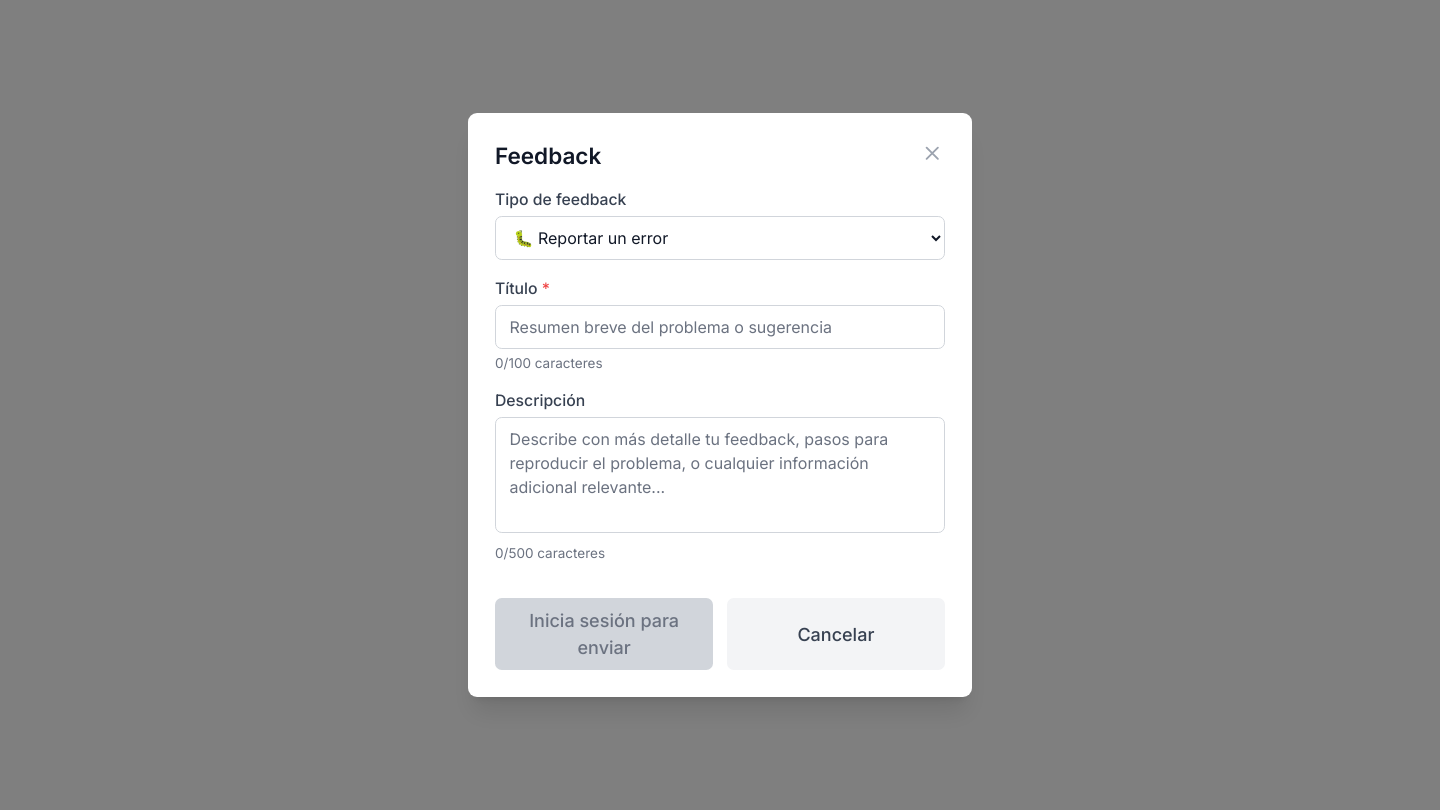
Test: FeedbackModal Integration Tests › Error handling flow › should handle authentication errors appropriately
Expected: the button "Inicia sesión para enviar" is disabled, [495, 598, 713, 670]
Step 1. Type "Test Title" into the field labelled "Título *" → (720, 327), box [495, 305, 945, 349]
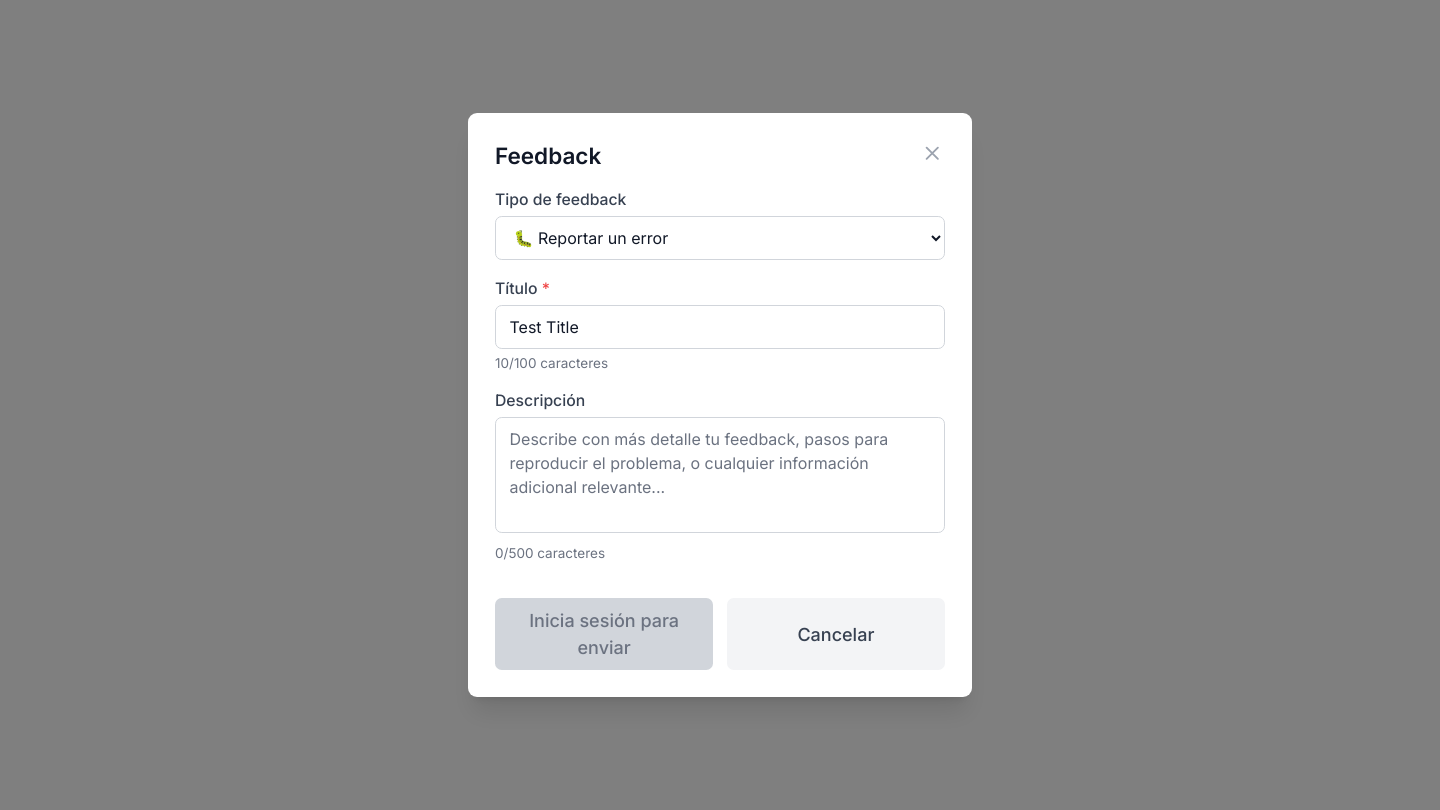
Step 2. Replace the text in the text box labelled "Descripción" with "Test description" → (720, 475), box [495, 417, 945, 533]
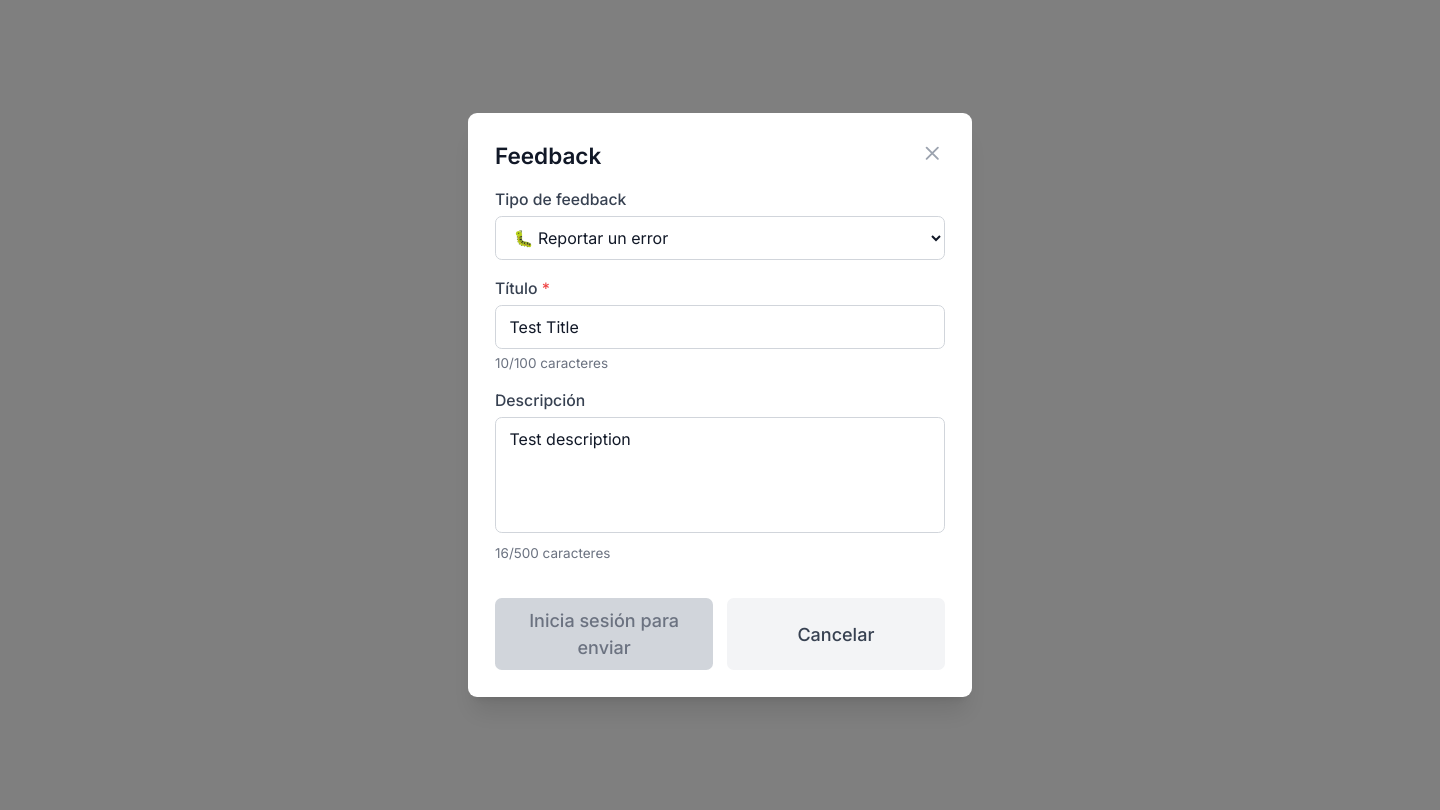
Try to submit (button is disabled, but we can still trigger the form submit)
Step 3. Submit the form, box [495, 189, 945, 670]
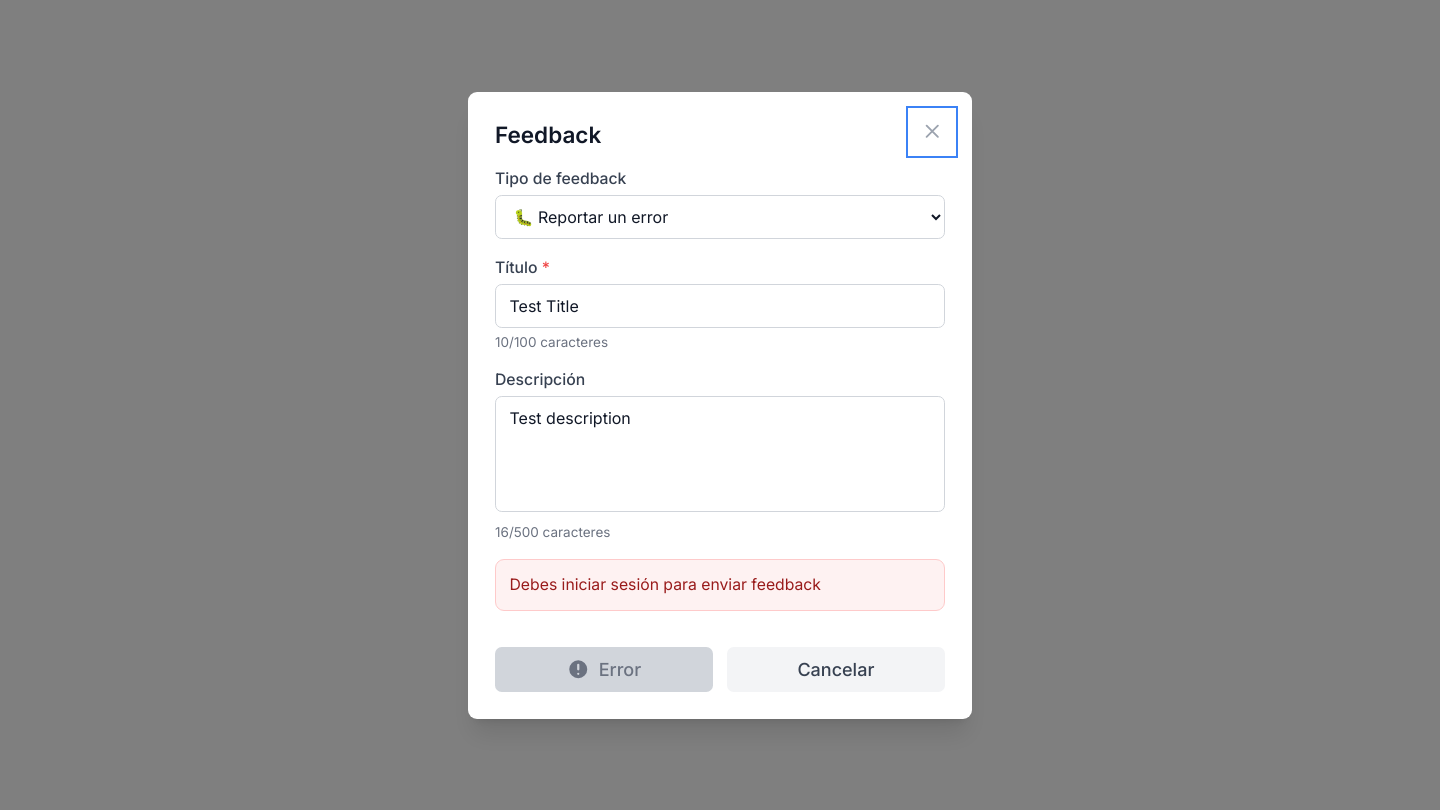
Expected: the text "Debes iniciar sesión para enviar feedback" is shown, [495, 559, 945, 610]
